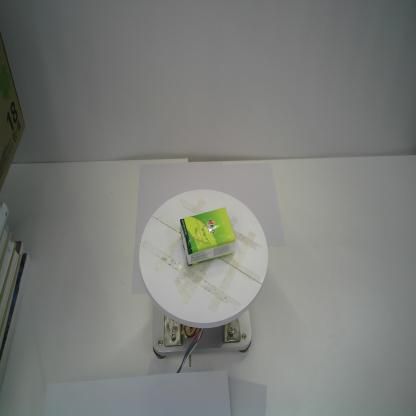Tissue: (180, 206, 236, 267)
